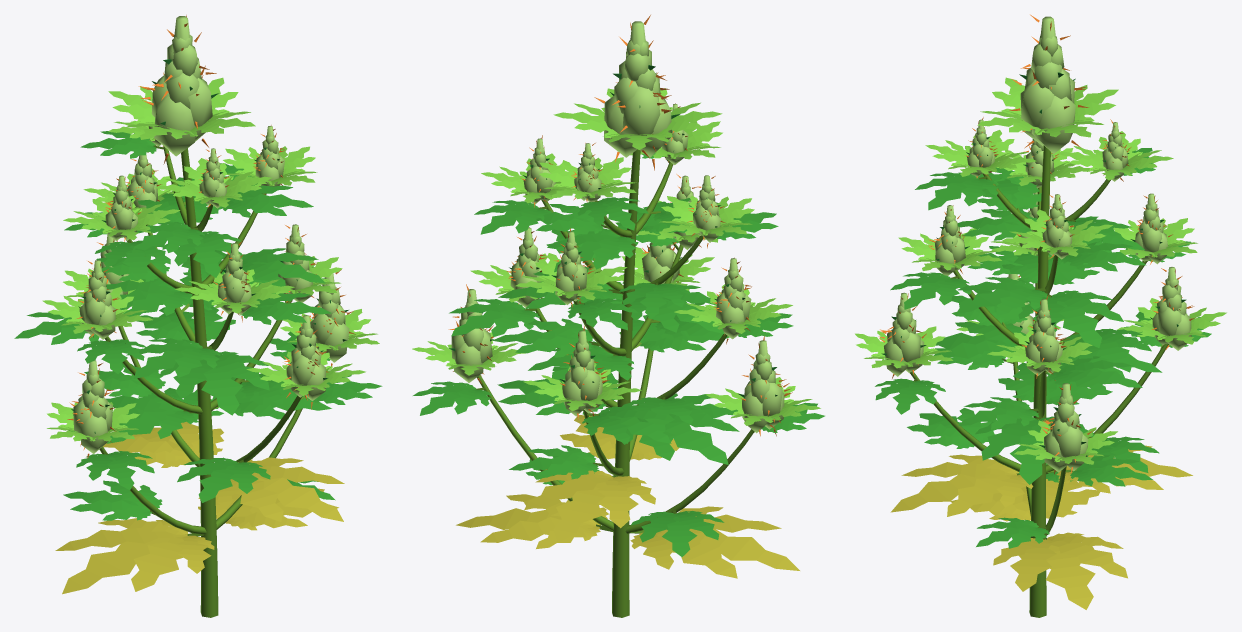
File: Weed_Plant_S4_Harvest.glb
3 views of the same model, side by side, from view 1: azimuth 30°, elevation 25°; view 2: azimuth 150°, elevation 25°; view 3: azimuth 270°, elevation 25° (orthographic). The views are drawn at different scales.
Parts seen in each view (by area): view 1: Weed_Plant_S4_Harvest_Plant, Weed_Plant_S4_Harvest; view 2: Weed_Plant_S4_Harvest_Plant, Weed_Plant_S4_Harvest; view 3: Weed_Plant_S4_Harvest_Plant, Weed_Plant_S4_Harvest.
Boxes of the visible parts, x1,y1,x2,y2 form: Weed_Plant_S4_Harvest_Plant: (14,77,382,617); Weed_Plant_S4_Harvest: (67,15,355,458); Weed_Plant_S4_Harvest_Plant: (412,88,824,617); Weed_Plant_S4_Harvest: (448,15,792,436); Weed_Plant_S4_Harvest_Plant: (855,77,1226,617); Weed_Plant_S4_Harvest: (878,14,1194,474).
Size of the model in its own units: 0.4809 by 0.7659 by 0.4405.
